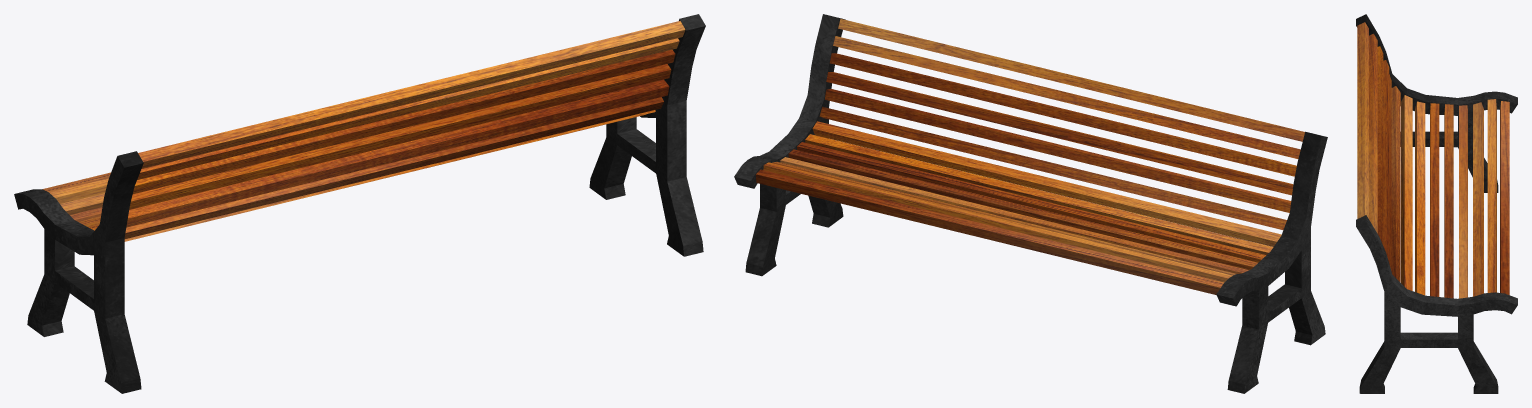
The model's file is bench.FBX.
3 views of the same model, side by side, from view 1: azimuth 30°, elevation 25°; view 2: azimuth 150°, elevation 25°; view 3: azimuth 270°, elevation 25° (orthographic). The views are drawn at different scales.
Parts seen in each view (by area): view 1: FancyBench; view 2: FancyBench; view 3: FancyBench.
Part boxes in pixels (x1,y1,x2,y2): FancyBench: (14, 14, 705, 393); FancyBench: (734, 14, 1327, 393); FancyBench: (1356, 14, 1517, 393).
Size of the model in its own units: 2281 by 751 by 881.
1 material, 1 textured.
